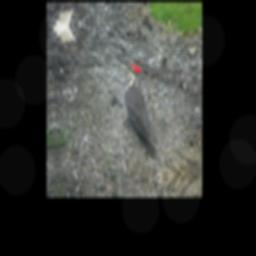Woodpecker: (114, 54, 160, 167)
